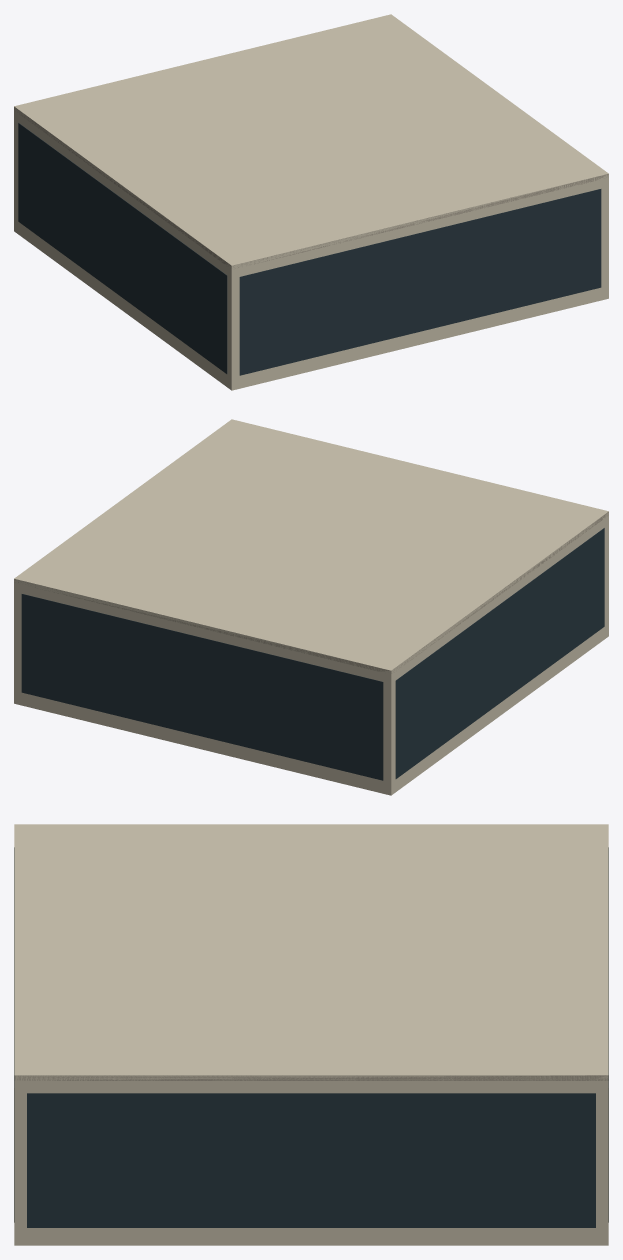
Rendered from tw_deco_24_base_lod1.glb.
3 renders of one model, top to bottom at view 1: azimuth 30°, elevation 25°; view 2: azimuth 150°, elevation 25°; view 3: azimuth 270°, elevation 25°, orthographic. The views are drawn at different scales.
Visible parts, largest first — view 1: tw_deco_24_base_lod1; view 2: tw_deco_24_base_lod1; view 3: tw_deco_24_base_lod1.
Part boxes in pixels (box(x1,y1,x2,y2)): tw_deco_24_base_lod1: box(14, 14, 608, 390); tw_deco_24_base_lod1: box(14, 419, 608, 795); tw_deco_24_base_lod1: box(14, 824, 608, 1245).
Size of the model in its own units: 24.04 by 7.6 by 24.04.
1 material, 1 textured.
